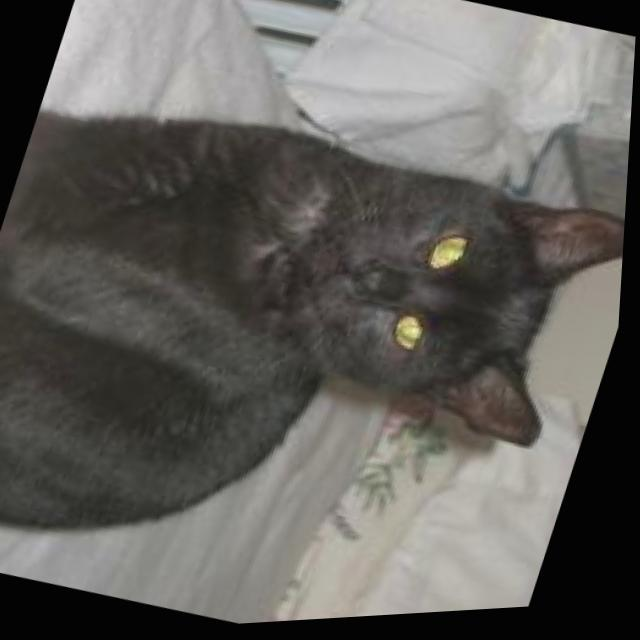Bombay: (0, 47, 636, 640)
